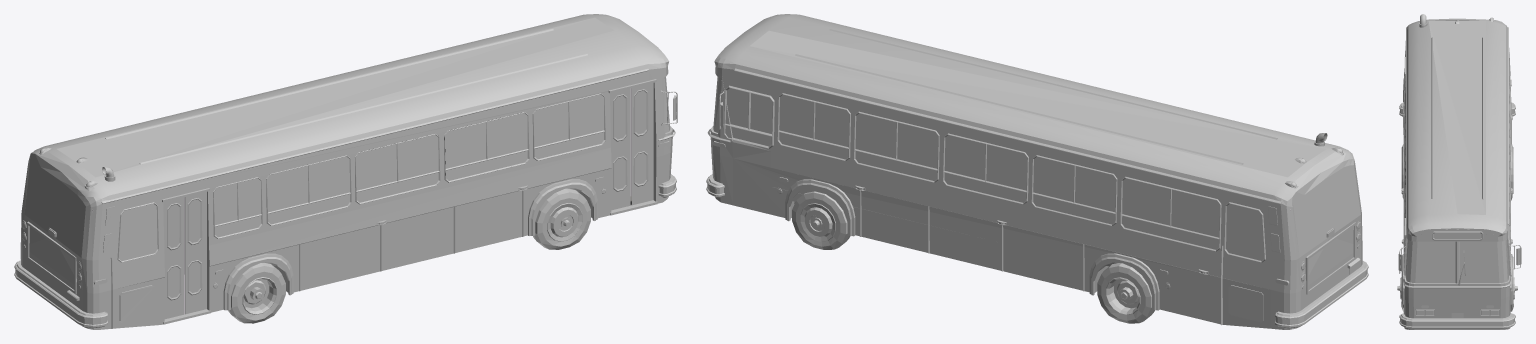
Rendered from Bus_Fix.FBX.
3 views of the same model, side by side, from view 1: azimuth 30°, elevation 25°; view 2: azimuth 150°, elevation 25°; view 3: azimuth 270°, elevation 25° (orthographic). The views are drawn at different scales.
Parts seen in each view (by area): view 1: esterno senza gadget001, bus esterno; view 2: esterno senza gadget001, bus esterno; view 3: esterno senza gadget001, bus esterno.
Part boxes in pixels (x1=…): esterno senza gadget001: x1=20, y1=14, x2=672, y2=329; bus esterno: x1=14, y1=29, x2=677, y2=328; esterno senza gadget001: x1=710, y1=14, x2=1362, y2=329; bus esterno: x1=706, y1=29, x2=1368, y2=328; esterno senza gadget001: x1=1403, y1=18, x2=1510, y2=329; bus esterno: x1=1397, y1=14, x2=1521, y2=328.
Size of the model in its own units: 15.03 by 4.37 by 3.67.
